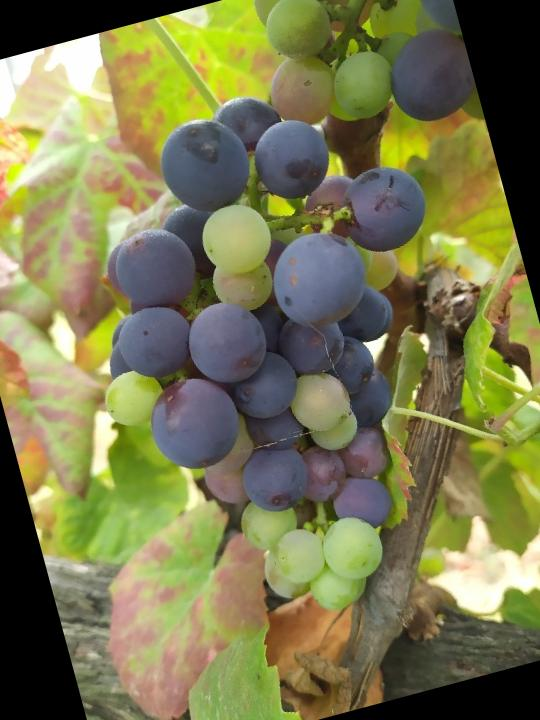grape: (35, 55, 527, 658)
